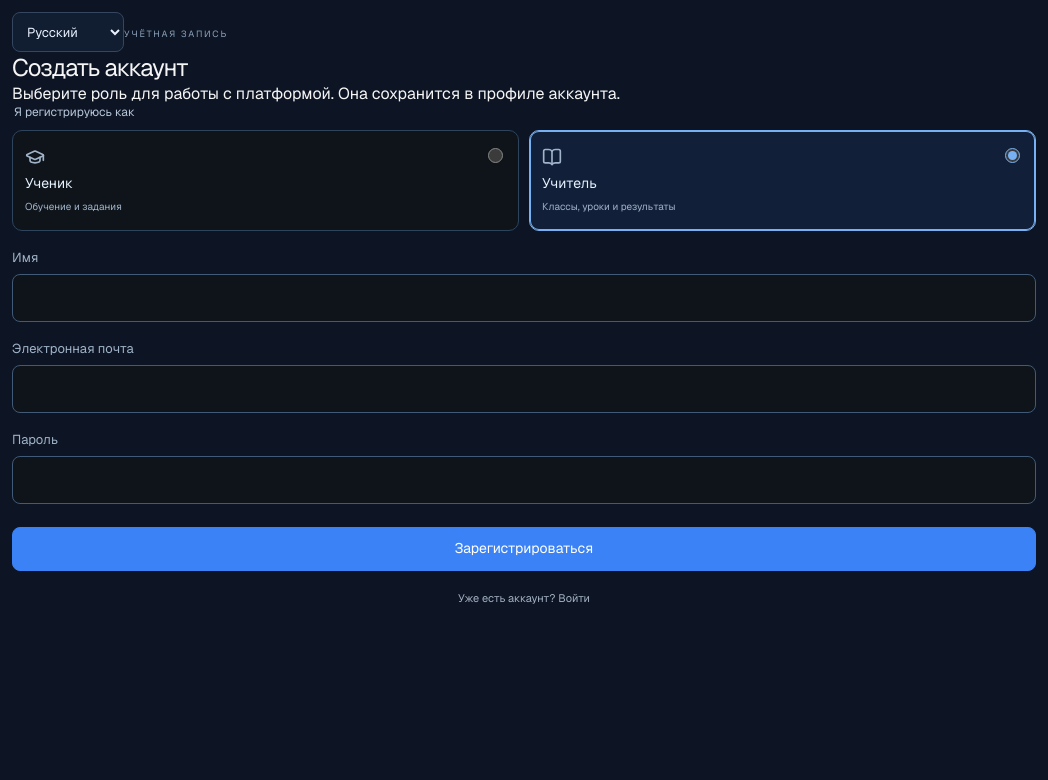
Scenario: language selection › preserves entered registration data and role while switching languages
Step 1. Type "Свет" into the field named "name" → (524, 298), box x1=12 y1=274 x2=1036 y2=322
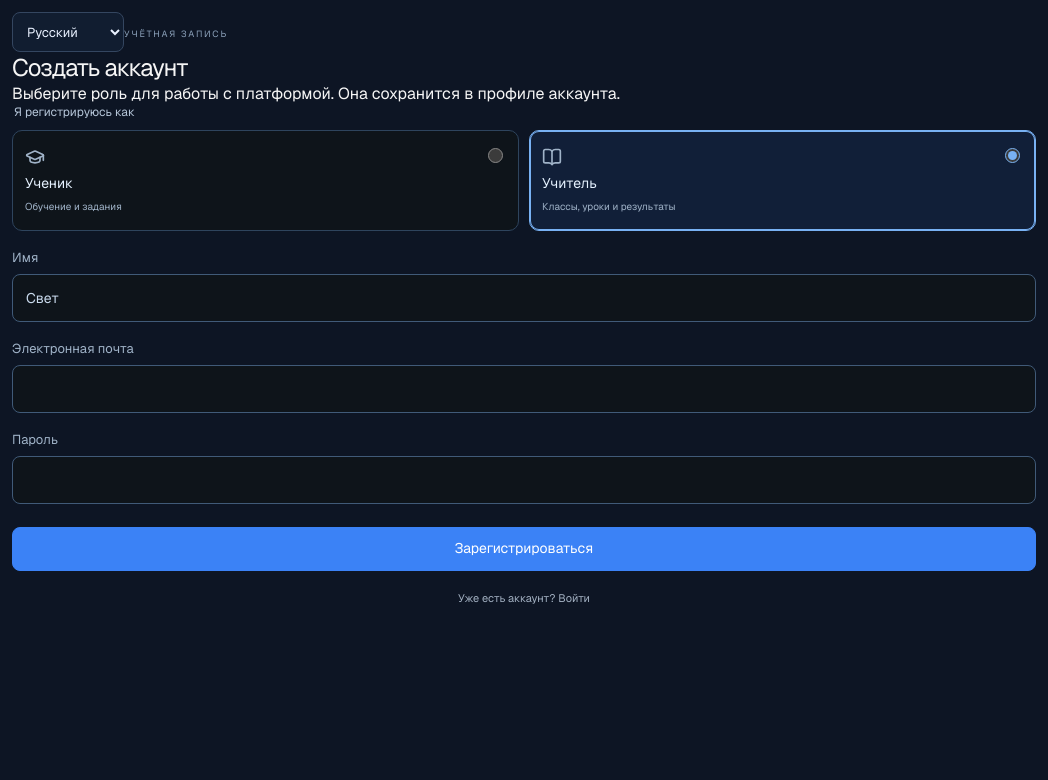
Step 2. Select "English" in the dropdown → (68, 32), box x1=12 y1=12 x2=124 y2=52
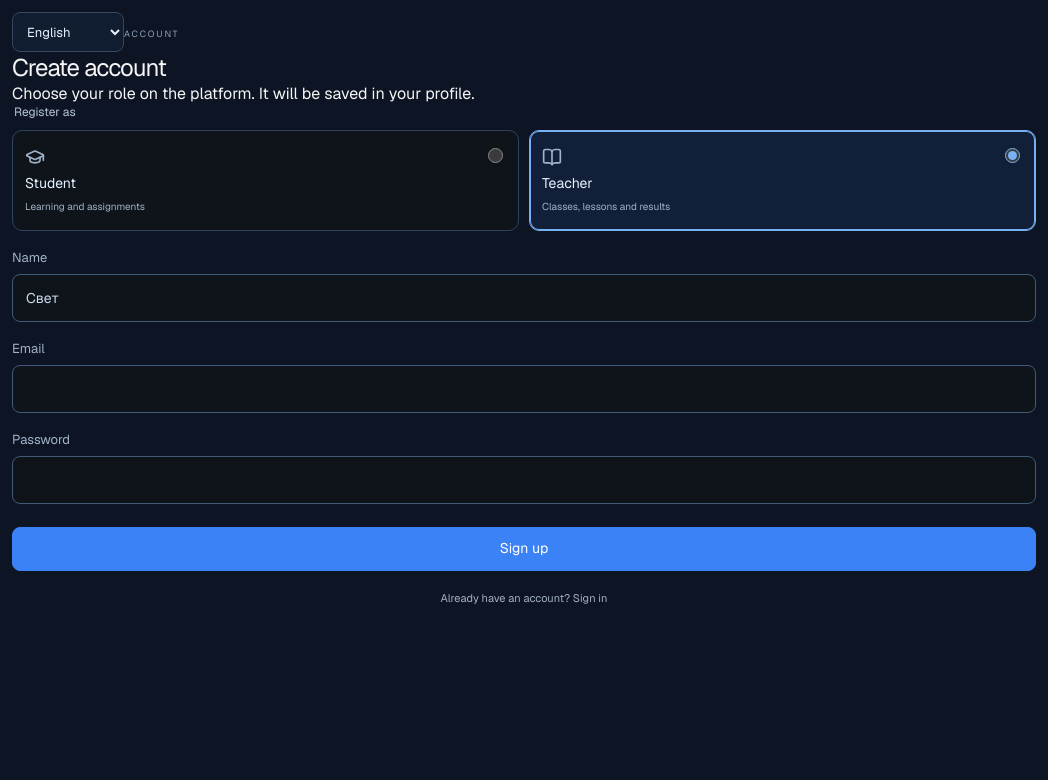
Check: the text "Register as" is shown, box x1=12 y1=104 x2=78 y2=120
Check: the text "Teacher" is shown, box x1=542 y1=174 x2=593 y2=192
Step 3. Select "Қазақша" in the dropdown → (68, 32), box x1=12 y1=12 x2=124 y2=52
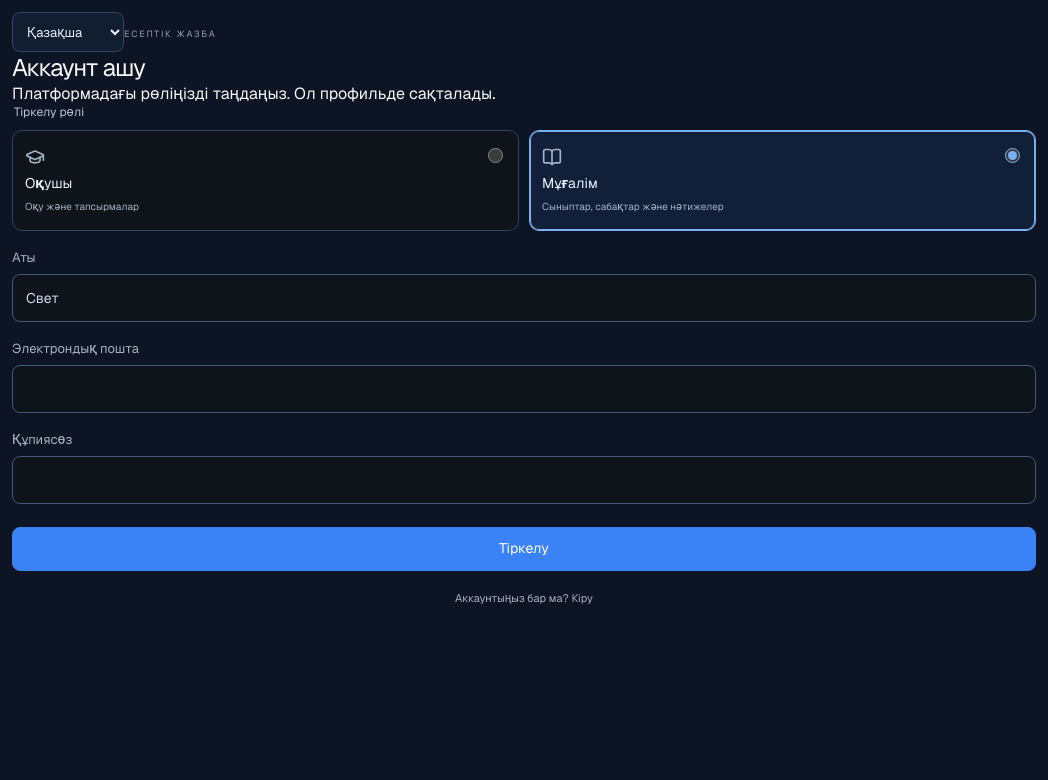
Check: the text "Мұғалім" is shown, box x1=542 y1=174 x2=598 y2=192
